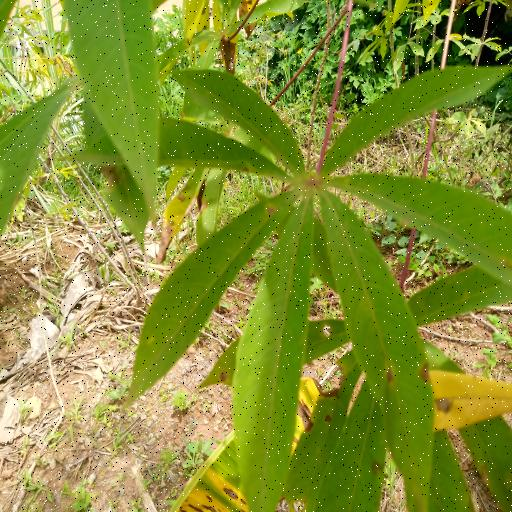Cassava_Brown_Leaf_Spot: (77, 71, 512, 512)
